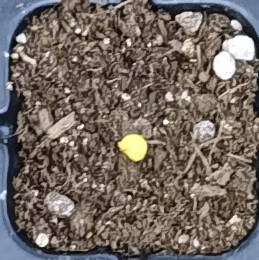pepper seed: (42, 52, 191, 214)
